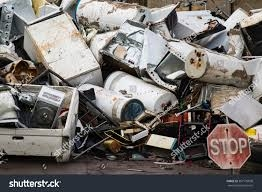metal: (19, 6, 108, 105), (101, 64, 184, 124), (181, 41, 262, 90), (72, 80, 145, 128), (24, 80, 69, 148), (200, 118, 255, 173), (139, 127, 181, 161)
